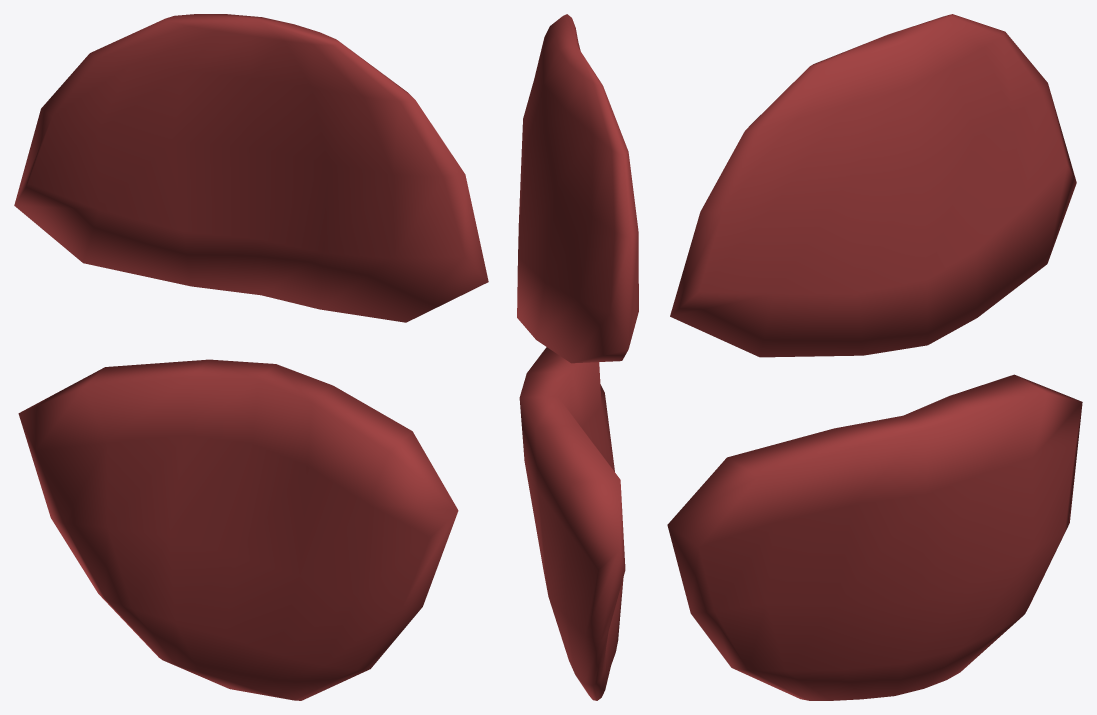
Rendered from intermuscular-gluteal-bursae-l.glb.
3 views of the same model, side by side, from view 1: azimuth 30°, elevation 25°; view 2: azimuth 150°, elevation 25°; view 3: azimuth 270°, elevation 25° (orthographic). The views are drawn at different scales.
Parts seen in each view (by area): view 1: Intermuscular gluteal bursae.l; view 2: Intermuscular gluteal bursae.l; view 3: Intermuscular gluteal bursae.l.
Boxes of the visible parts, <box> form: Intermuscular gluteal bursae.l: <box>14,14,488,700</box>; Intermuscular gluteal bursae.l: <box>517,14,638,700</box>; Intermuscular gluteal bursae.l: <box>667,14,1082,700</box>.
Bounding box in the file's own units: 0.0137 × 0.0312 × 0.0174.
